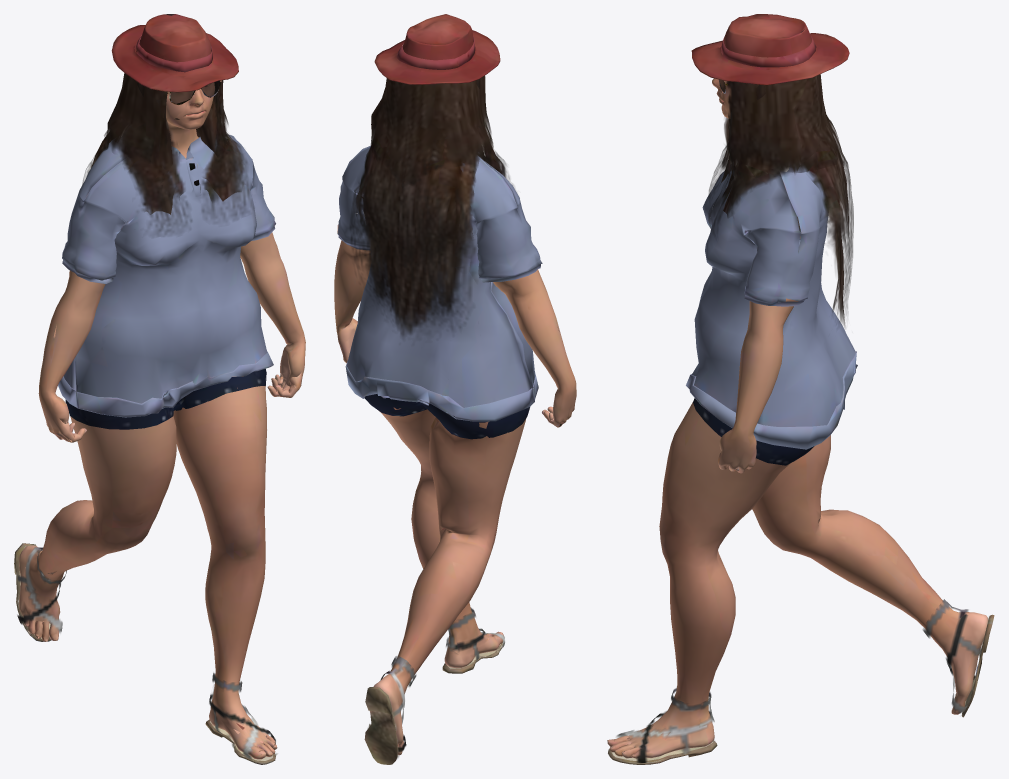
The picture shows the model from 3 angles, left to right: view 1: azimuth 30°, elevation 25°; view 2: azimuth 150°, elevation 25°; view 3: azimuth 270°, elevation 25°; orthographic projection. The views are drawn at different scales.
Visible parts, largest first — view 1: p03146; view 2: p03146; view 3: p03146.
Boxes of the visible parts, x1,y1,x2,y2 form: p03146: [14, 14, 305, 764]; p03146: [334, 14, 576, 764]; p03146: [607, 14, 994, 764].
Size of the model in its own units: 0.5963 by 1.55 by 0.7554.
1 material, 1 textured.
